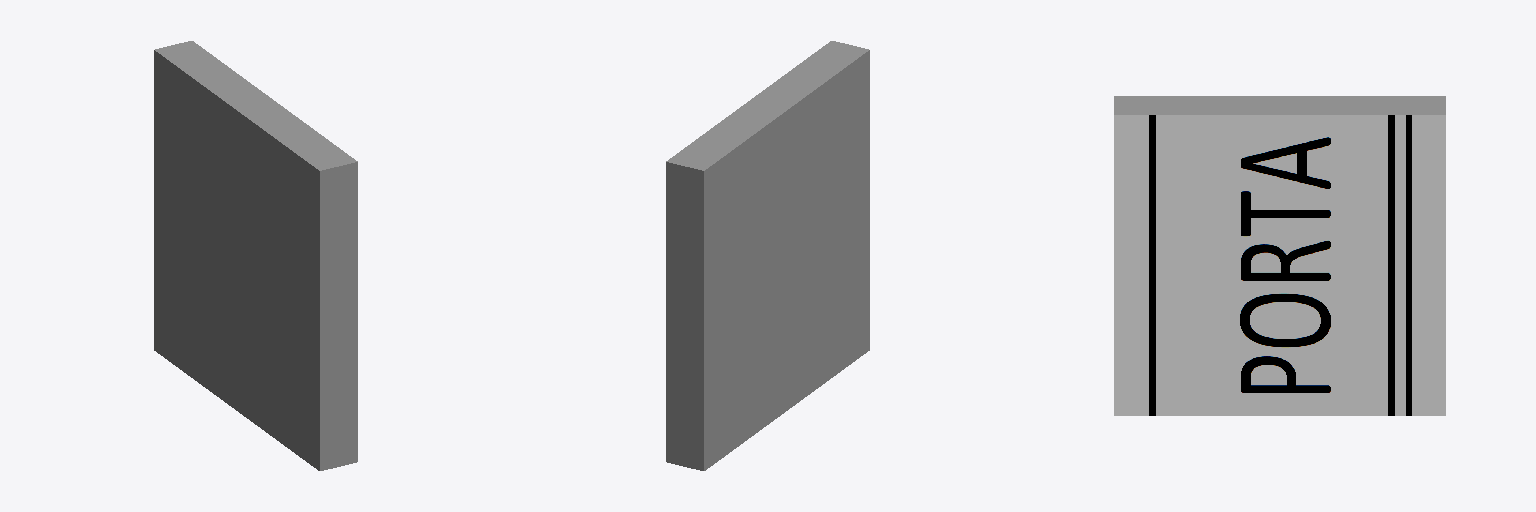
3 renders of one model, left to right at view 1: azimuth 30°, elevation 25°; view 2: azimuth 150°, elevation 25°; view 3: azimuth 270°, elevation 25°, orthographic.
Parts seen in each view (by area): view 1: Cube; view 2: Cube; view 3: Cube.
Part boxes in pixels (x1,y1,x2,y2): Cube: (154, 41, 357, 470); Cube: (666, 41, 869, 470); Cube: (1114, 96, 1445, 415).
Bounding box in the file's own units: 0.2664 × 2 × 2.
2 materials, 1 textured.